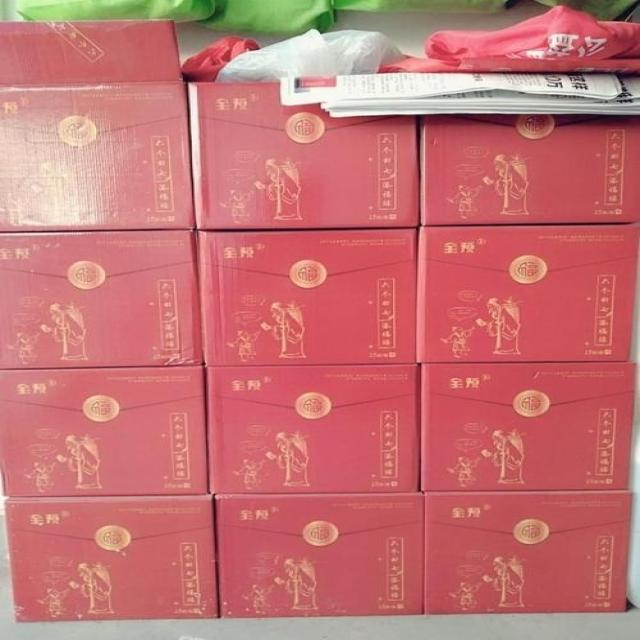box: (0, 19, 196, 232), (189, 83, 422, 229), (417, 223, 640, 363), (196, 227, 416, 366), (0, 229, 206, 369), (419, 363, 635, 491), (206, 364, 420, 493), (5, 494, 218, 621), (214, 491, 425, 619), (1, 365, 207, 496), (425, 490, 632, 615), (419, 115, 640, 226)
